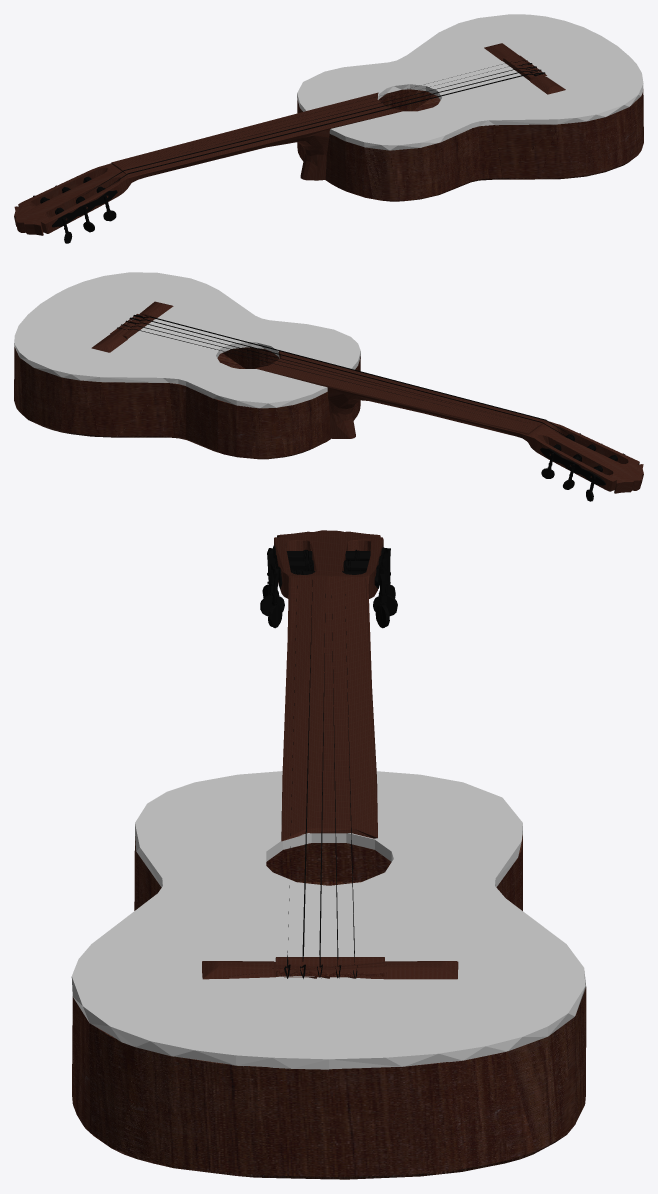
File: Guitar.FBX
The picture shows the model from 3 angles, top to bottom: view 1: azimuth 30°, elevation 25°; view 2: azimuth 150°, elevation 25°; view 3: azimuth 270°, elevation 25°; orthographic projection. The views are drawn at different scales.
Parts seen in each view (by area): view 1: Guitar; view 2: Guitar; view 3: Guitar.
Boxes of the visible parts, <box> form: Guitar: <box>14,14,643,243</box>; Guitar: <box>14,272,643,501</box>; Guitar: <box>71,530,586,1179</box>.
Size of the model in its own units: 461 by 171 by 50.26.
